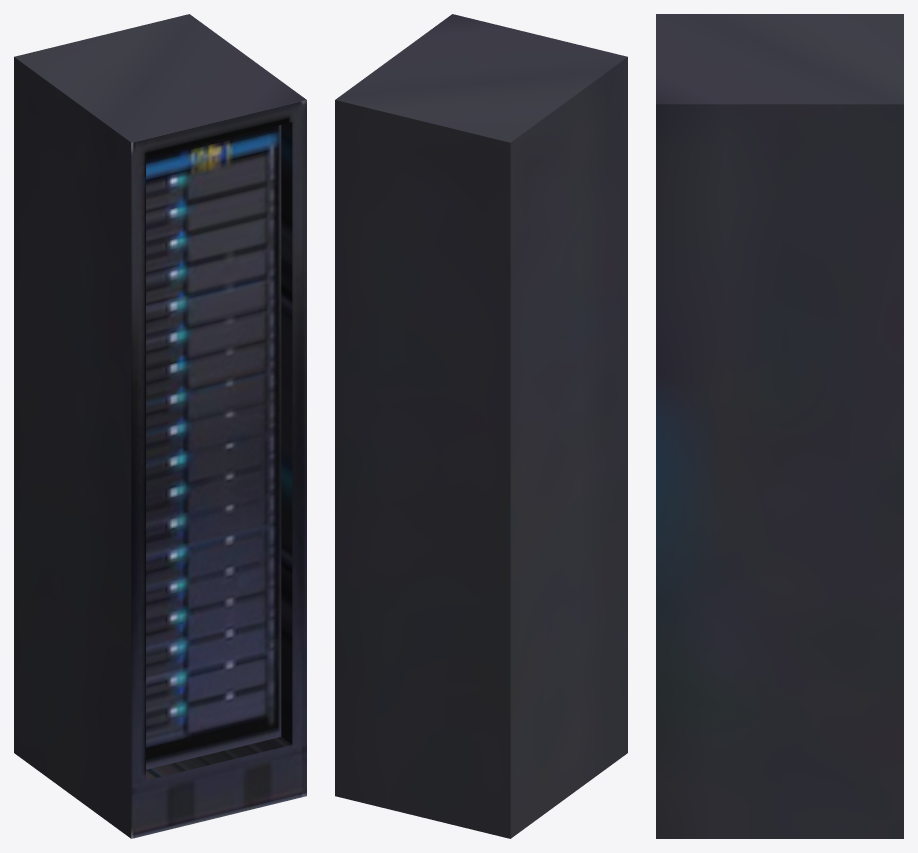
The model's file is server-rack-tall.glb.
The picture shows the model from 3 angles, left to right: view 1: azimuth 30°, elevation 25°; view 2: azimuth 150°, elevation 25°; view 3: azimuth 270°, elevation 25°; orthographic projection. The views are drawn at different scales.
Parts seen in each view (by area): view 1: Cube_0; view 2: Cube_0; view 3: Cube_0.
Boxes of the visible parts, bbox=[...] form: Cube_0: bbox=[14, 14, 306, 838]; Cube_0: bbox=[335, 14, 627, 838]; Cube_0: bbox=[656, 14, 903, 838].
Bounding box in the file's own units: 1.73 × 6.54 × 2.
2 materials, 2 textured.
